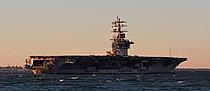MIL_Ship: (22, 14, 188, 74)
